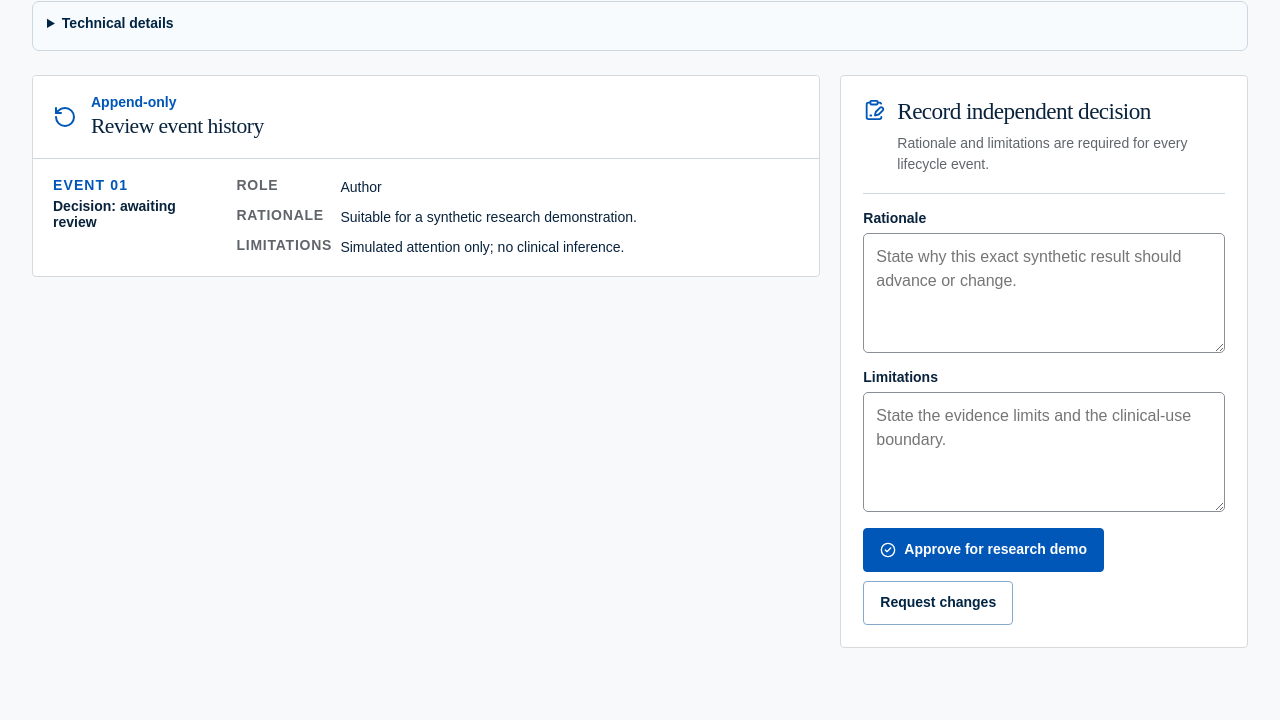
Test: exact result review workflow › clears structured-note validation state after a successful lifecycle action
(page scrolled)
Click the button "Request changes" at (938, 603), box [863,581,1013,625]
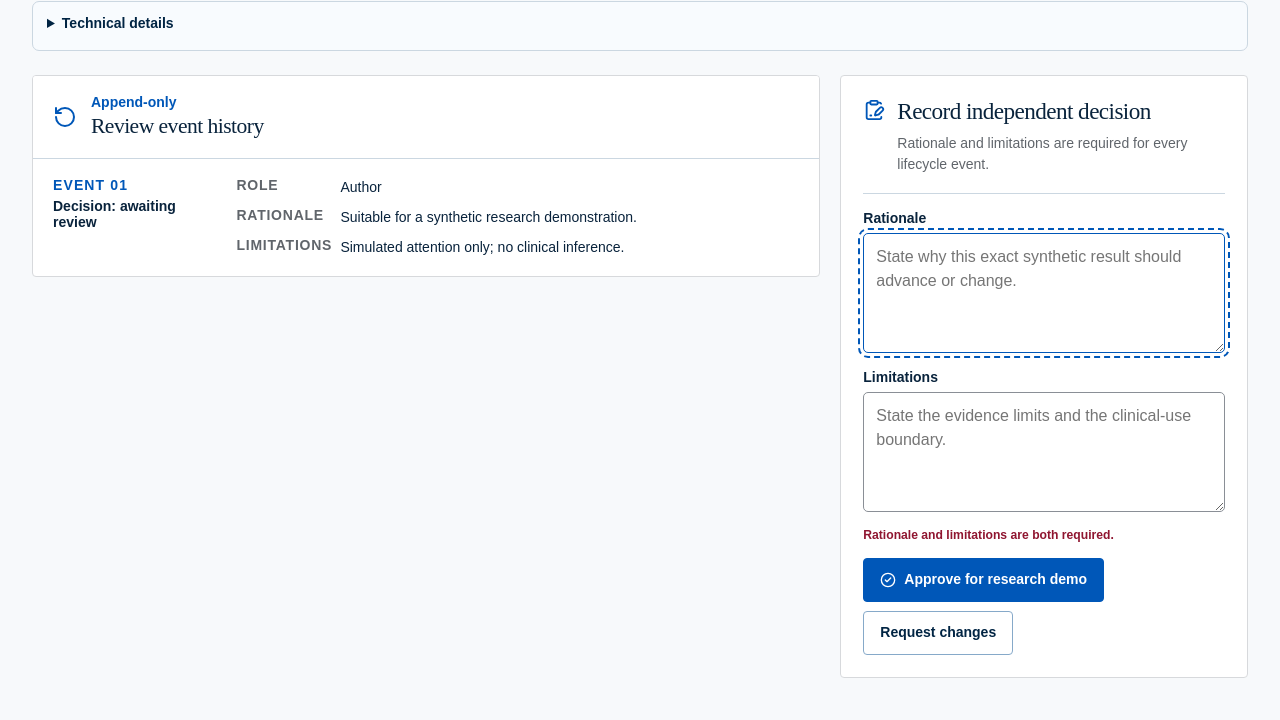
Type "Clarification required." into the text box labelled "Rationale" at (1044, 293), box [863,233,1225,353]
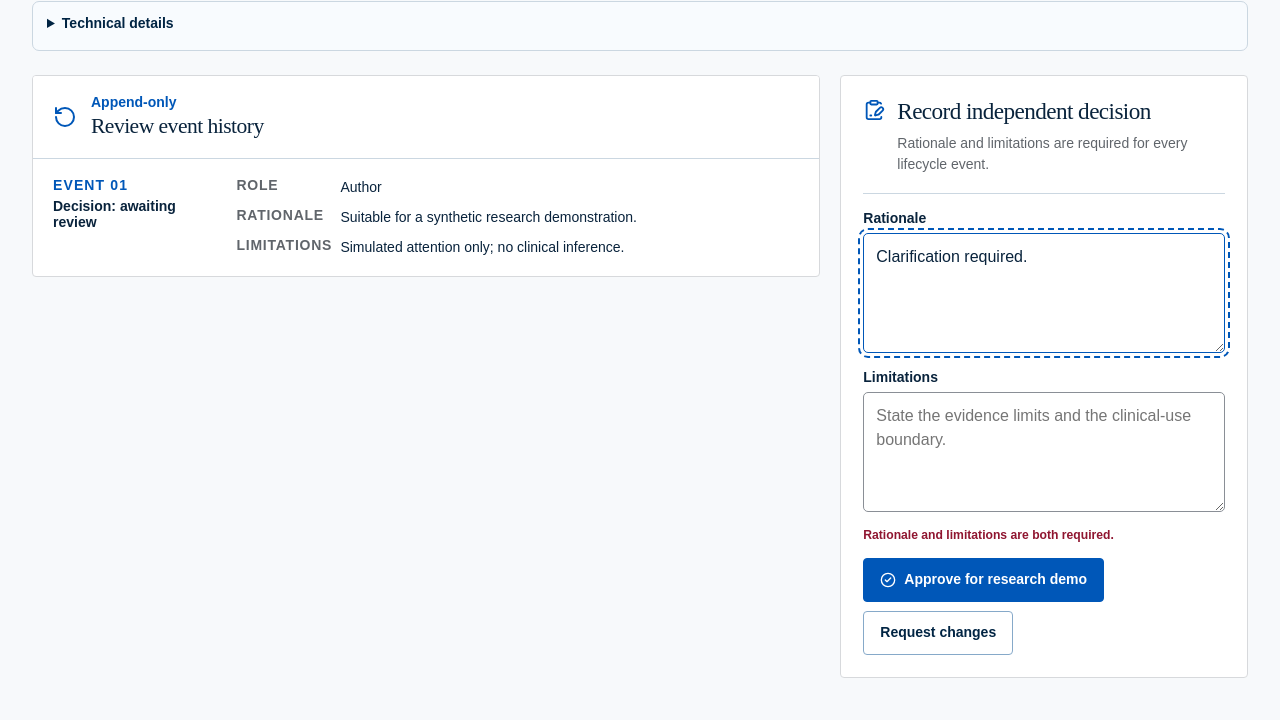
Type "Keep the synthetic-only boundary explicit." into the text box labelled "Limitations" at (1044, 452), box [863,392,1225,512]
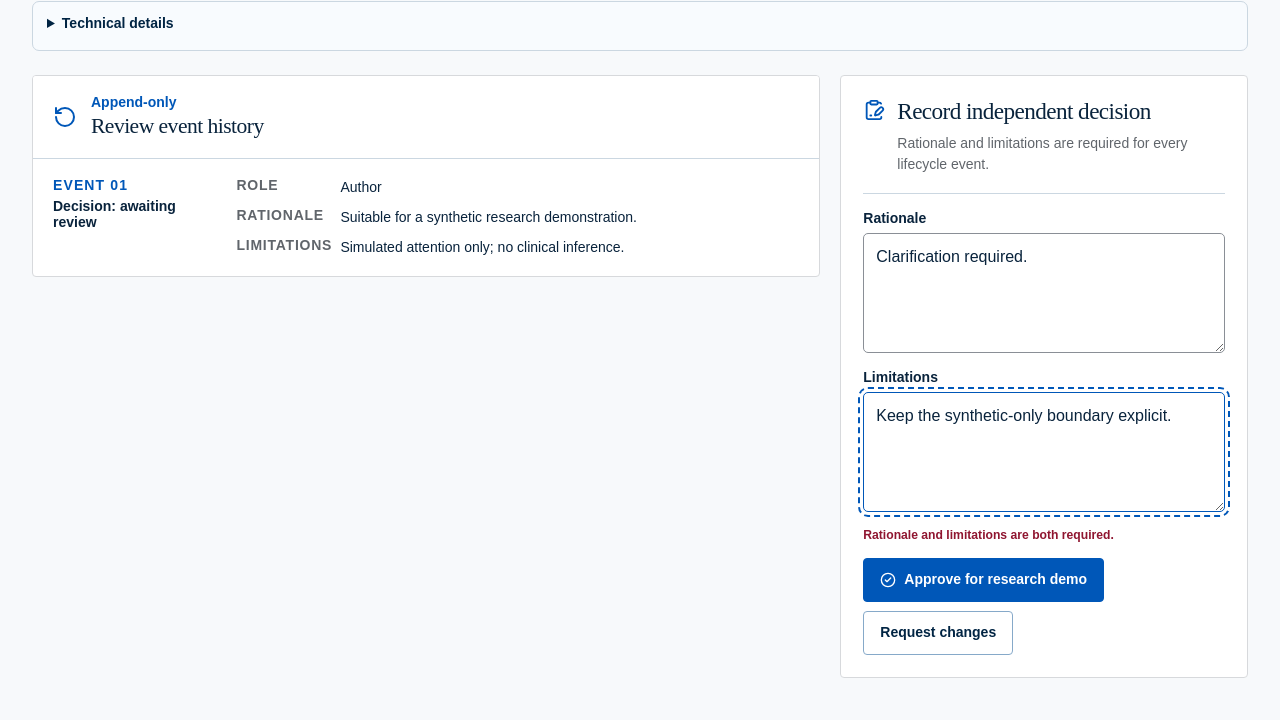
Click the button "Request changes" at (938, 633), box [863,611,1013,655]
(page scrolled)
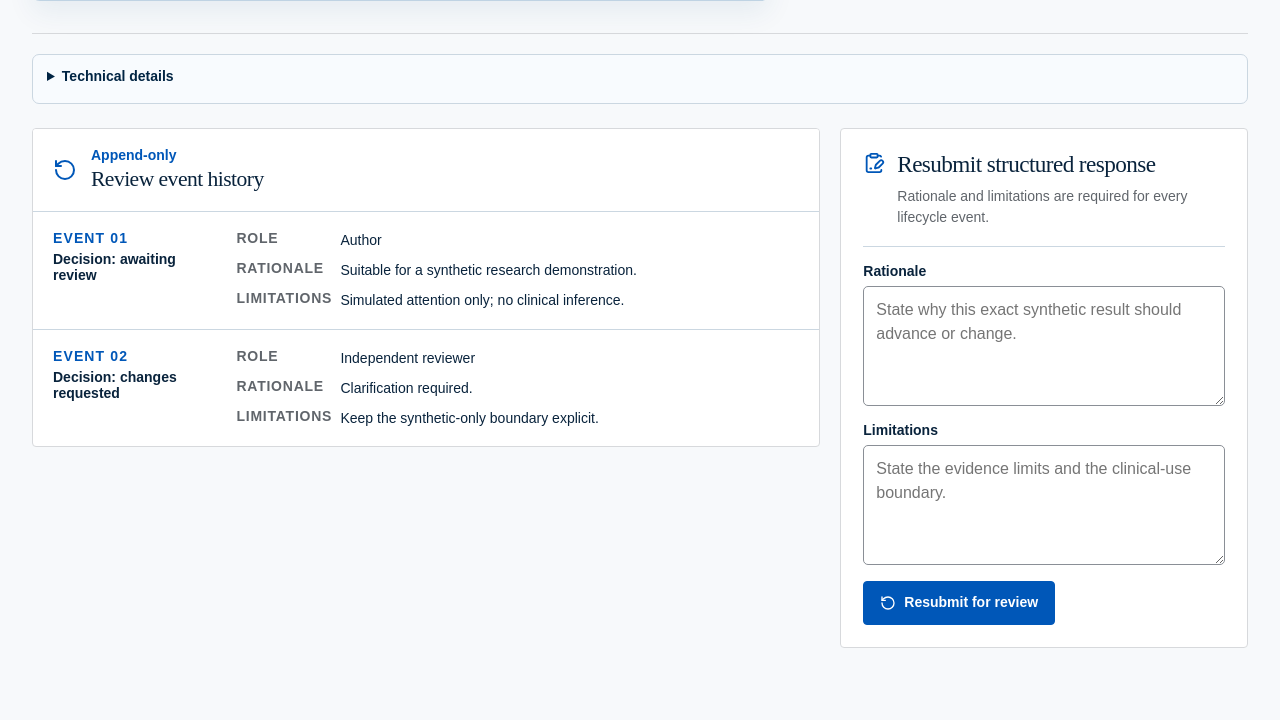
Expected: the text "Rationale and limitations are both required." is gone
Expected: the text box labelled "Rationale" is empty, [863,286,1225,406]
Expected: the text box labelled "Limitations" is empty, [863,445,1225,565]
